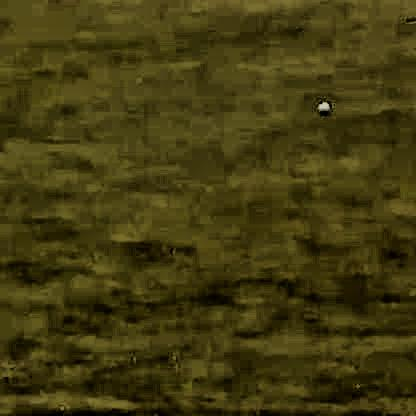golfball: (316, 100, 328, 111)
